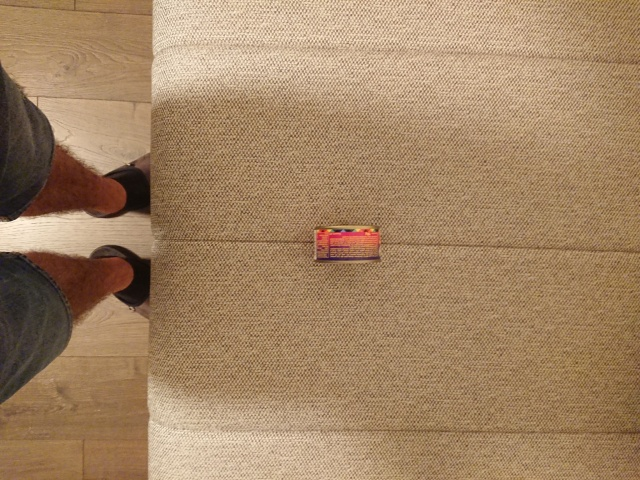Giana Tuna Salad Mexico 185g: (311, 222, 386, 267)
